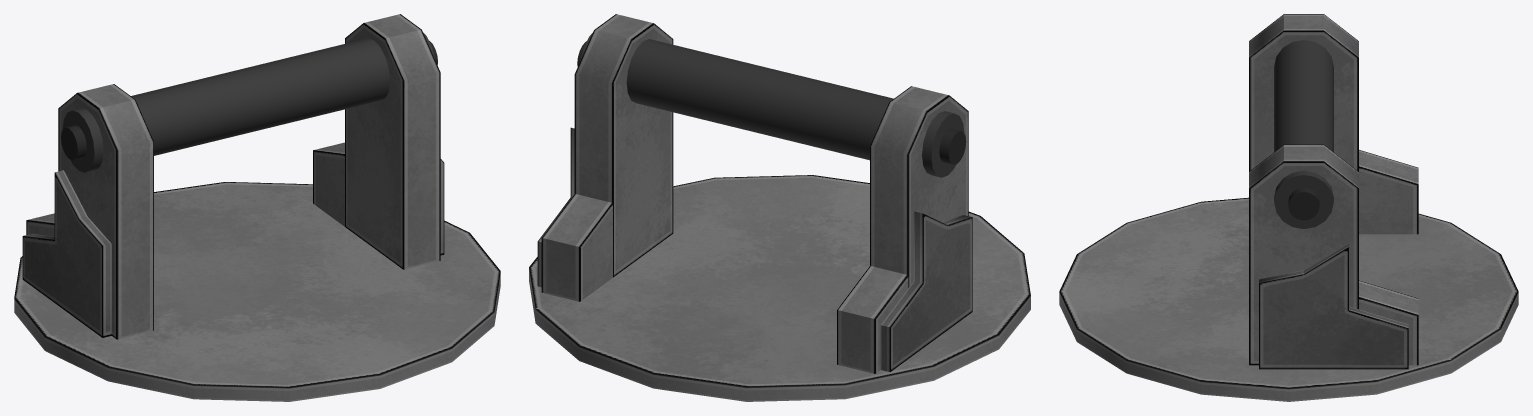
Rendered from Nuke Cannon_Rot.fbx.
3 renders of one model, left to right at view 1: azimuth 30°, elevation 25°; view 2: azimuth 150°, elevation 25°; view 3: azimuth 270°, elevation 25°, orthographic. The views are drawn at different scales.
Parts seen in each view (by area): view 1: polySurface616; view 2: polySurface616; view 3: polySurface616.
Boxes of the visible parts, <box> form: polySurface616: <box>14,14,500,401</box>; polySurface616: <box>529,14,1030,401</box>; polySurface616: <box>1059,14,1518,401</box>.
Bounding box in the file's own units: 106 × 55.2 × 106.
2 materials, 2 textured.
